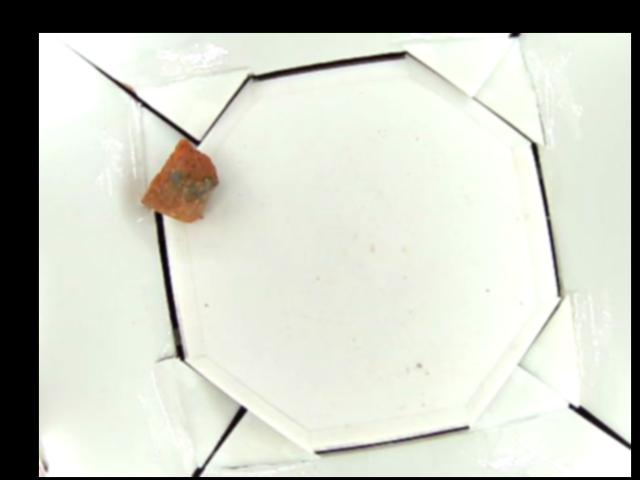Brisk: (140, 137, 221, 222)
